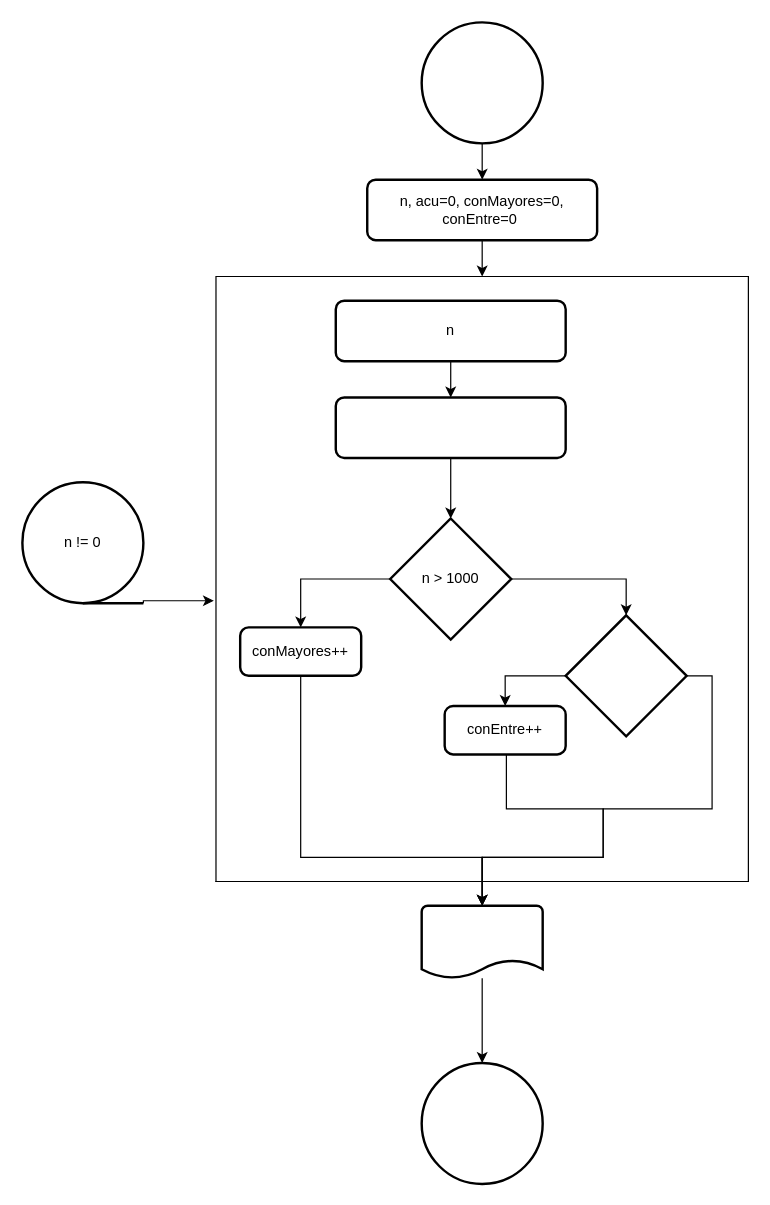
Some shapes in this 770 by 1205 pixel diagram are drawn without their labels. Here are the shapes that lost their labels. From the top down, the box of each, then its label:
(334, 396, 566, 459): acu += n
(564, 613, 687, 737): n >= 400 && n<= 700
(420, 904, 543, 979): conMayores, conEntre, acu
